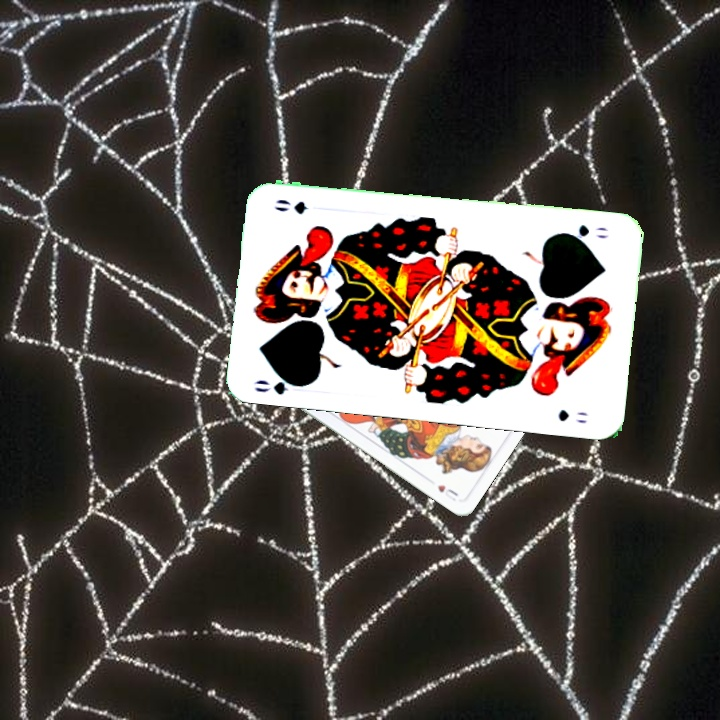GO: (250, 370, 310, 398), (558, 221, 611, 243)
